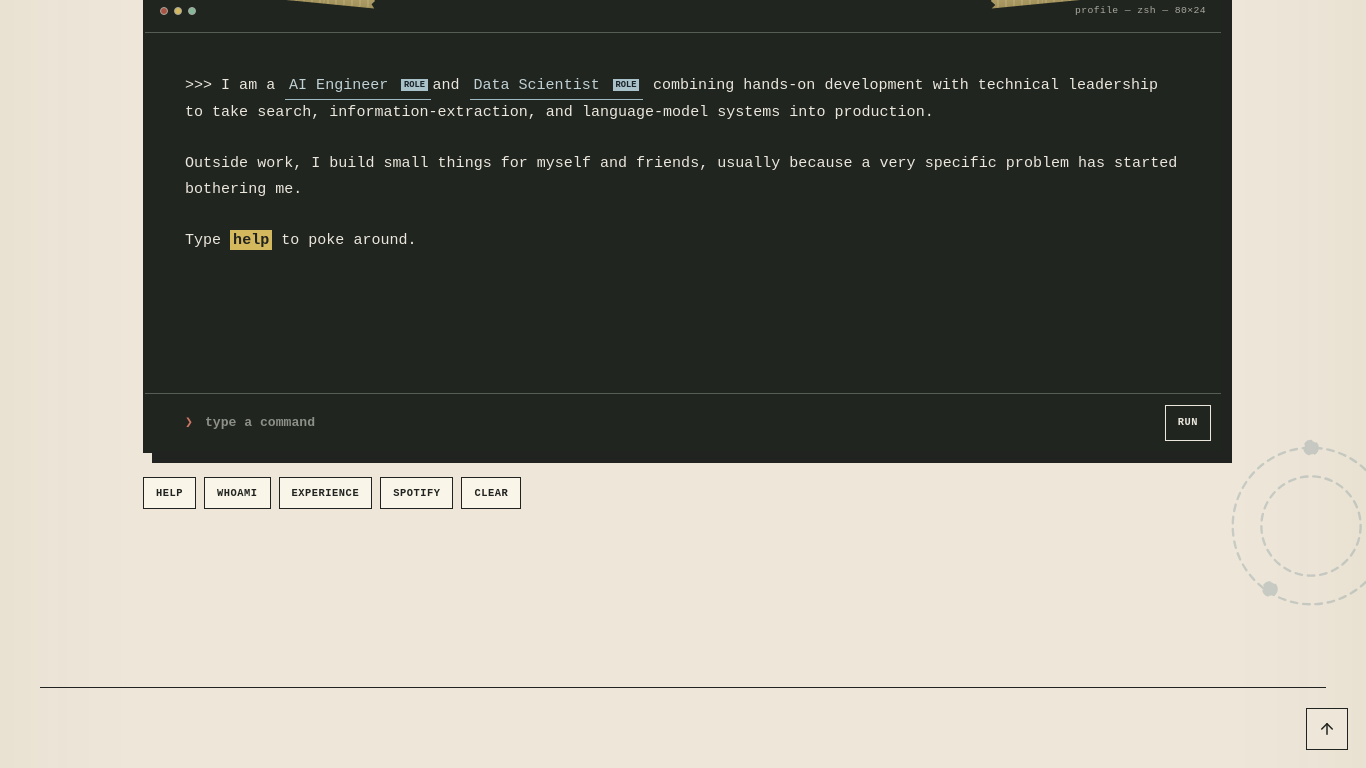
Scenario: terminal commands › runs education
(page scrolled)
Type "education" into the field named "terminal command" at coordinates (679, 423), box [205,406,1153,439]
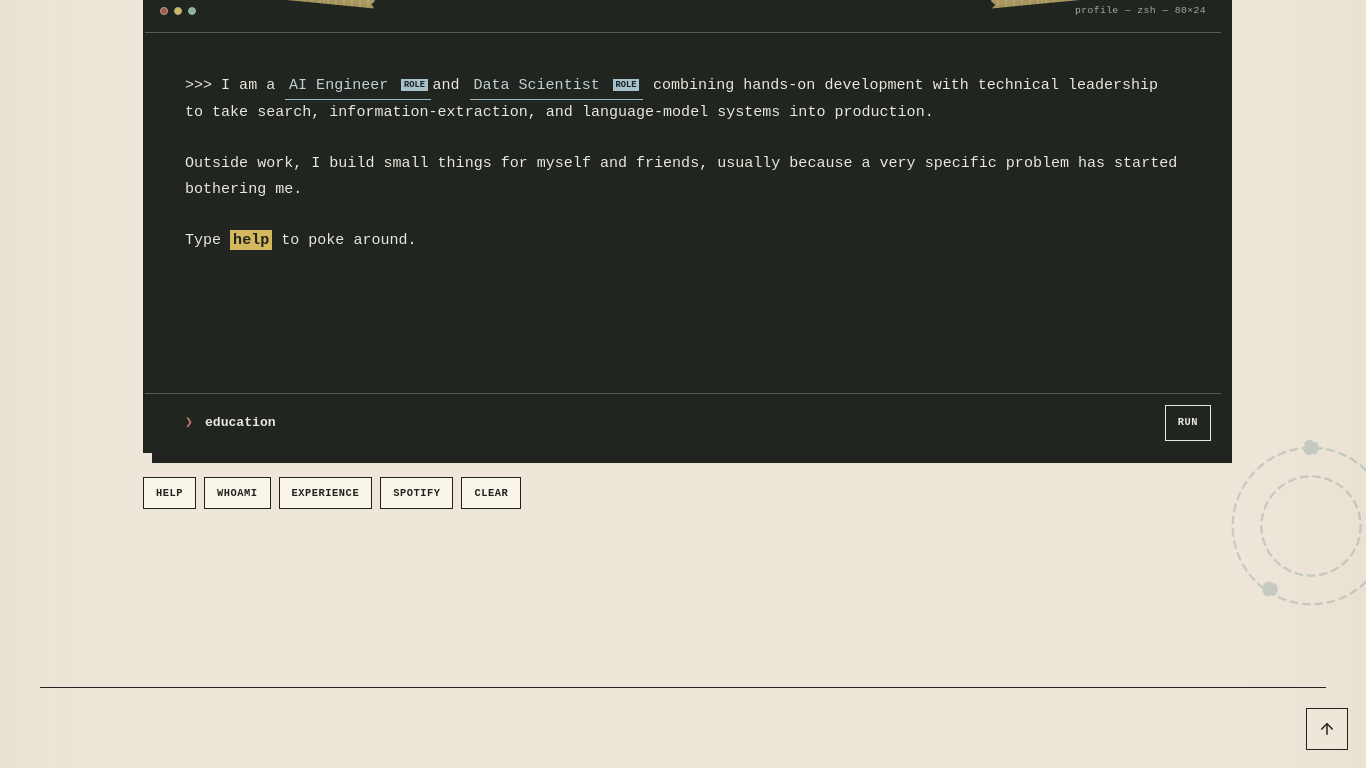
Press Enter in the field named "terminal command", box [205,406,1153,439]
(page scrolled)
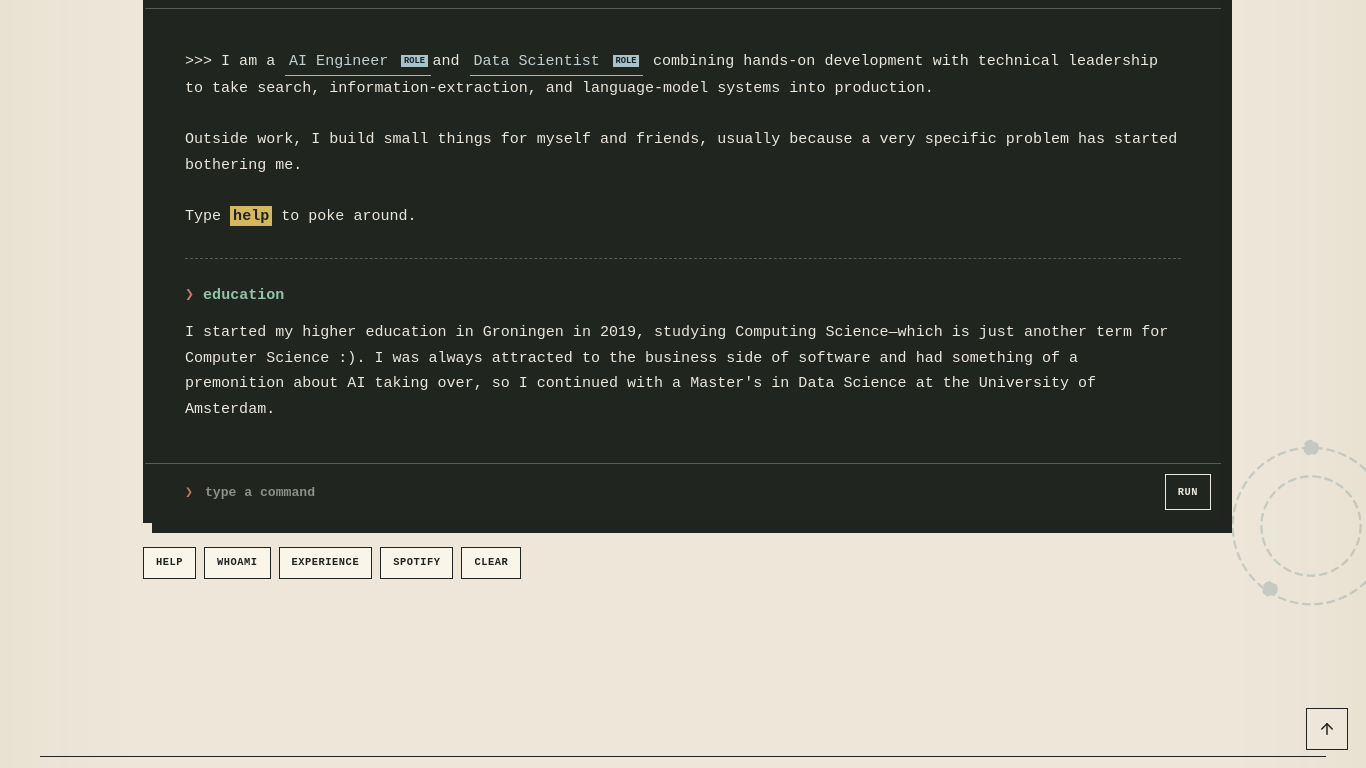
Result: the text "Groningen" is shown at [185,323,1168,418]
